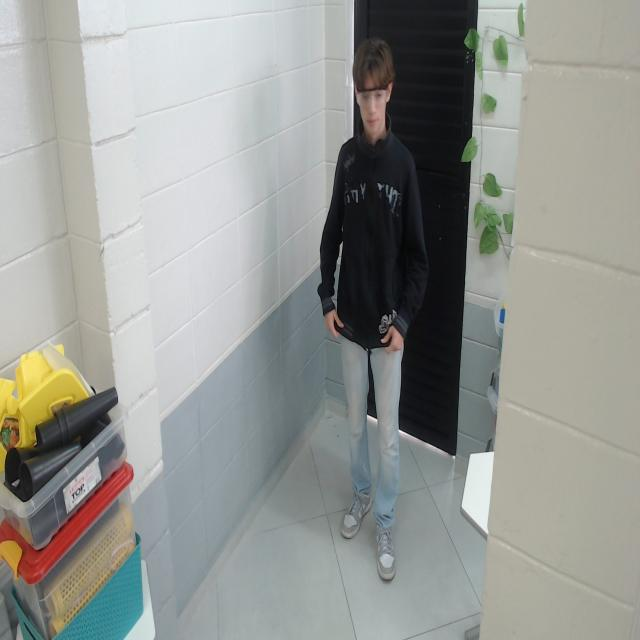oculos-epi: (355, 87, 388, 111)
